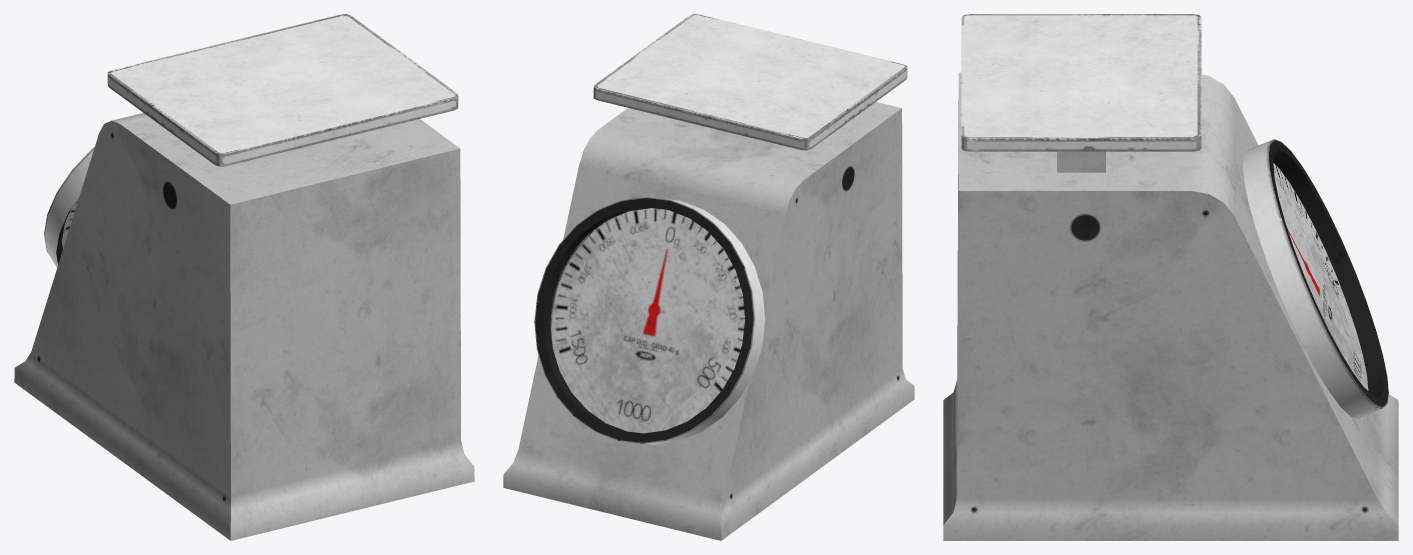
File: SM_Weighing_Machine.fbx
3 views of the same model, side by side, from view 1: azimuth 30°, elevation 25°; view 2: azimuth 150°, elevation 25°; view 3: azimuth 270°, elevation 25° (orthographic). The views are drawn at different scales.
Parts seen in each view (by area): view 1: SM_Weighing_Machine_LOD0; view 2: SM_Weighing_Machine_LOD0; view 3: SM_Weighing_Machine_LOD0.
Boxes of the visible parts, x1,y1,x2,y2 form: SM_Weighing_Machine_LOD0: (14,14,474,540); SM_Weighing_Machine_LOD0: (503,14,914,540); SM_Weighing_Machine_LOD0: (943,14,1398,540).
Size of the model in its own units: 17.36 by 26.34 by 25.52.
Materials: 1 (1 with a texture image).
